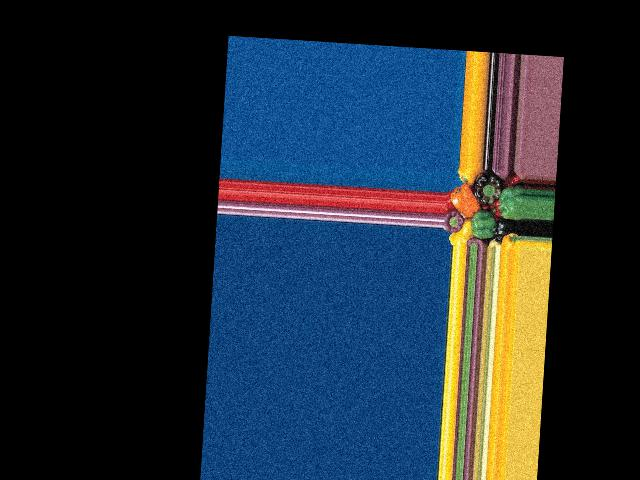bell_pepper: (500, 184, 524, 219)
